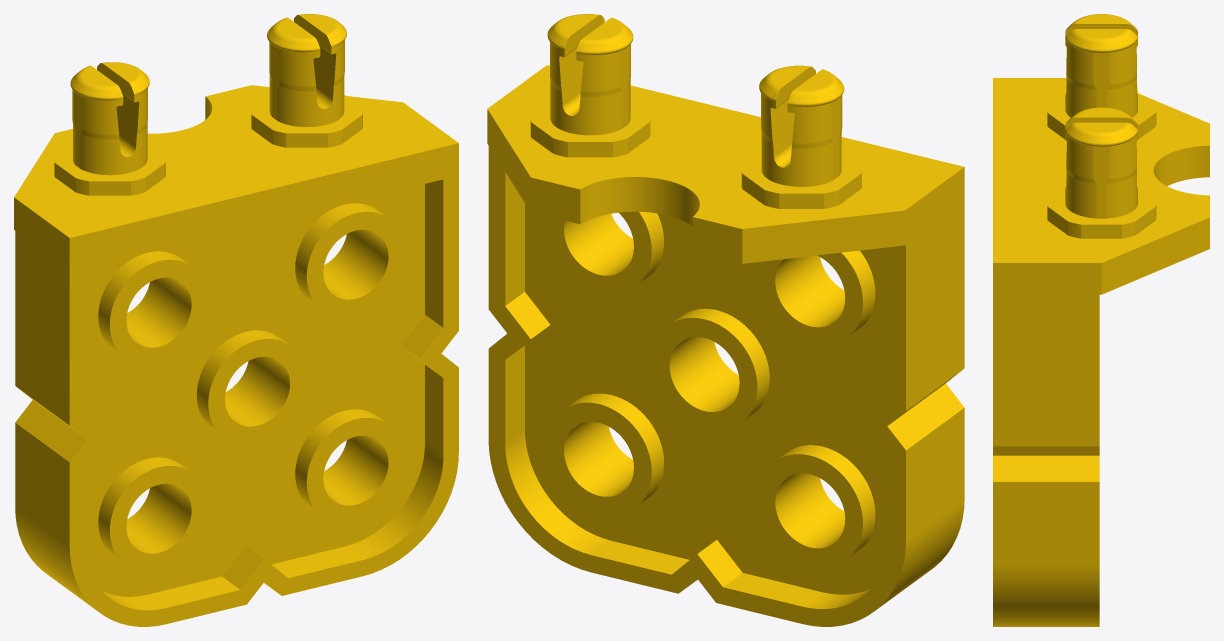
3 renders of one model, left to right at view 1: azimuth 30°, elevation 25°; view 2: azimuth 150°, elevation 25°; view 3: azimuth 270°, elevation 25°, orthographic. The views are drawn at different scales.
Visible parts, largest first — view 1: 228-2500-2295; view 2: 228-2500-2295; view 3: 228-2500-2295.
Part boxes in pixels (left/top/right/bottom): 228-2500-2295: left=14, top=14, right=458, bottom=626; 228-2500-2295: left=487, top=14, right=964, bottom=626; 228-2500-2295: left=993, top=14, right=1209, bottom=626.
Size of the model in its own units: 0.0251 by 0.0314 by 0.0124.
